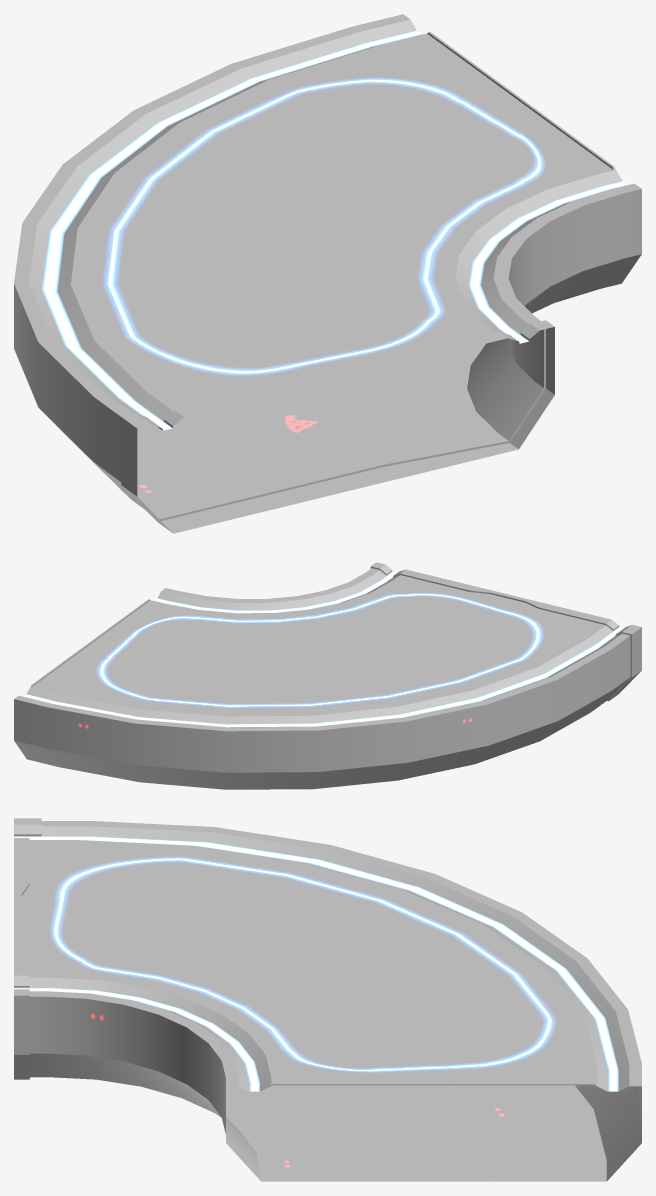
Rendered from TurnRight_NoCaps.fbx.
The picture shows the model from 3 angles, top to bottom: view 1: azimuth 30°, elevation 25°; view 2: azimuth 150°, elevation 25°; view 3: azimuth 270°, elevation 25°; orthographic projection. The views are drawn at different scales.
Visible parts, largest first — view 1: TurnRight_NoCaps; view 2: TurnRight_NoCaps; view 3: TurnRight_NoCaps.
Part boxes in pixels (x1,y1,x2,y2): TurnRight_NoCaps: (14,14,641,533); TurnRight_NoCaps: (14,562,641,789); TurnRight_NoCaps: (14,818,641,1181).
Size of the model in its own units: 3.75 by 0.6517 by 3.74.
